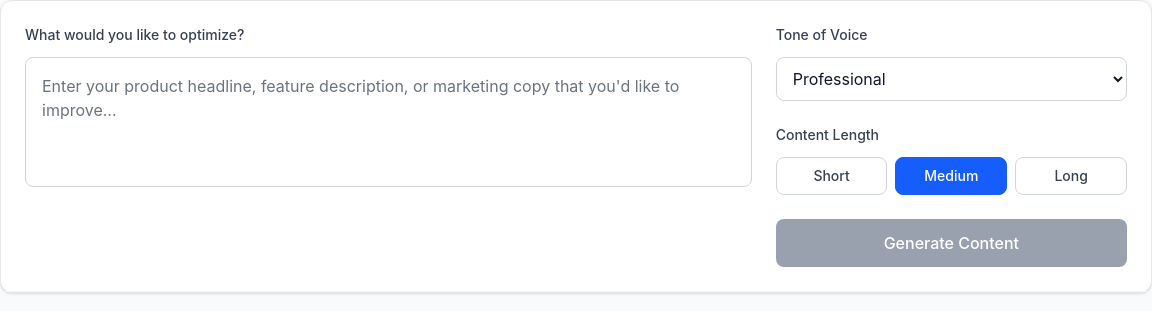
it: CTAEditor Component › renders the textarea input and the generate button, which is disabled when the input is empty
Expected: the button "Generate Content" is disabled, [776,219,1127,267]
Replace the text in the text box with placeholder "Enter your product headline" with "My product" at [388, 122], box [25,57,752,187]
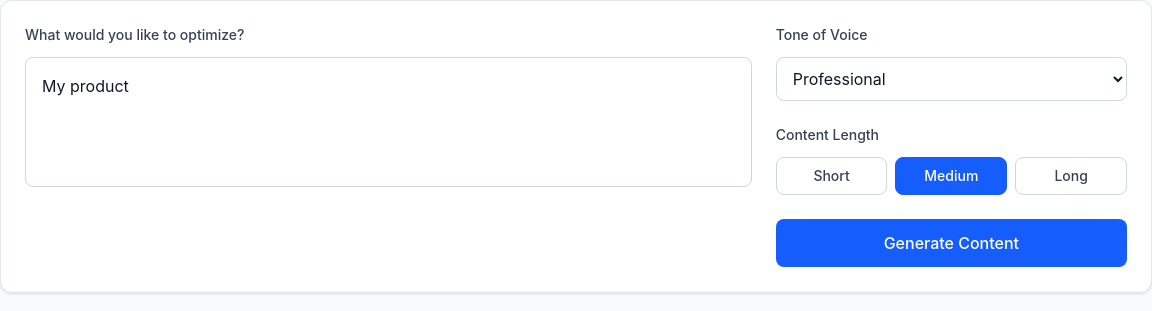
Expected: the button "Generate Content" is enabled, [776,219,1127,267]
